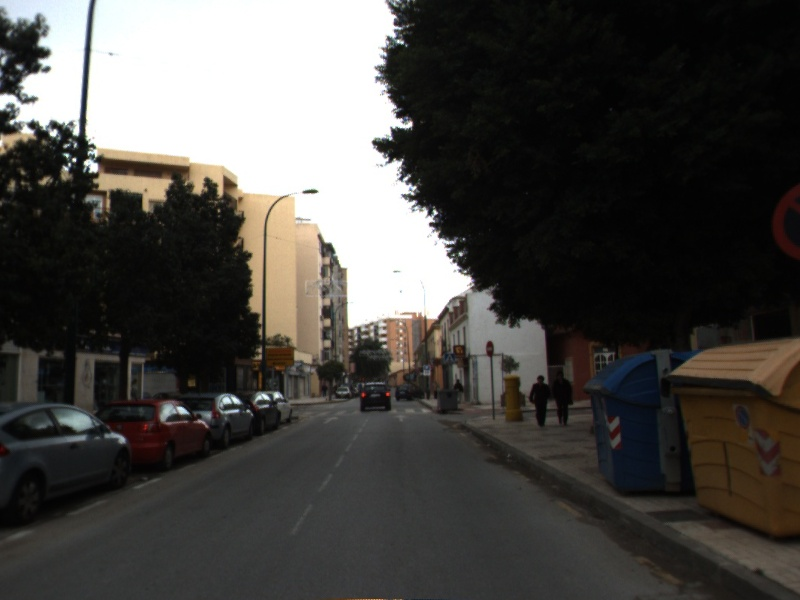STRAIGHT: (320, 414, 341, 425), (392, 413, 410, 423)
